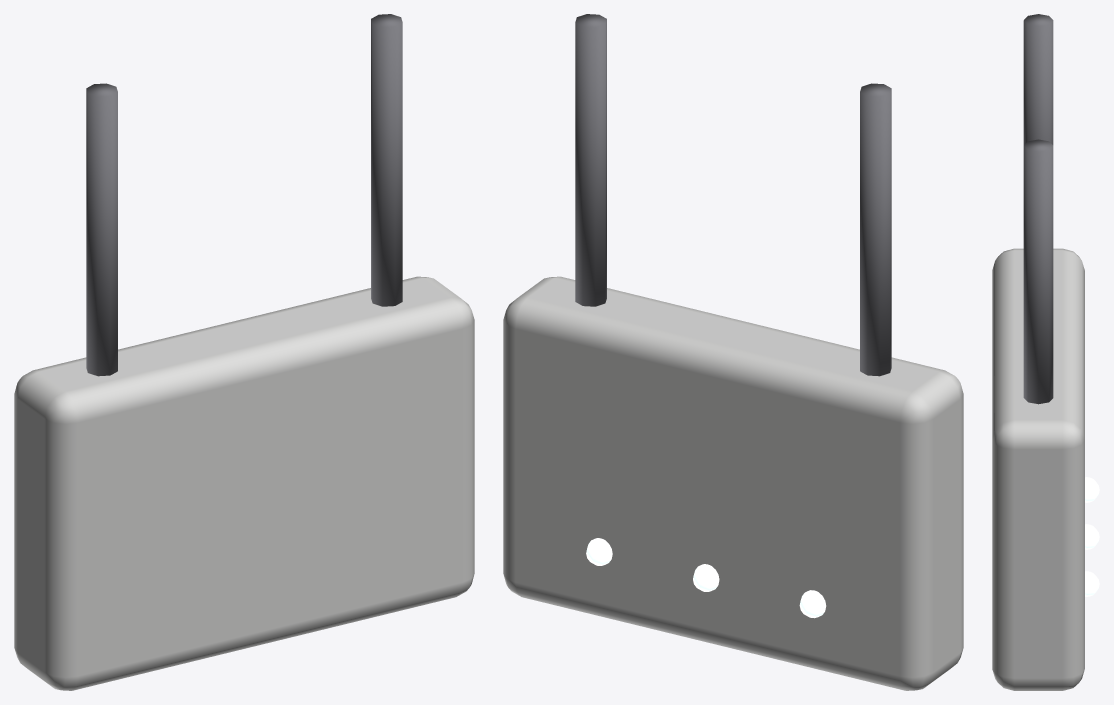
Rendered from escena.casa.router.fbx.
3 views of the same model, side by side, from view 1: azimuth 30°, elevation 25°; view 2: azimuth 150°, elevation 25°; view 3: azimuth 270°, elevation 25° (orthographic). The views are drawn at different scales.
Parts seen in each view (by area): view 1: Router, Antena, Antena.001; view 2: Router, Antena, Antena.001; view 3: Router, Antena, Antena.001, Luz, Luz.001, Luz.002.
Part boxes in pixels (x1,y1,x2,y2): Router: (14,276,474,690); Antena: (371,14,402,306); Antena.001: (86,83,117,376); Router: (503,276,963,690); Antena: (575,14,606,306); Antena.001: (860,83,891,376); Router: (992,248,1084,690); Antena: (1023,139,1053,404); Antena.001: (1023,14,1053,145); Luz: (1085,571,1099,596); Luz.001: (1085,524,1099,549); Luz.002: (1085,477,1099,502).
Size of the model in its own units: 0.24 by 0.31 by 0.058.
